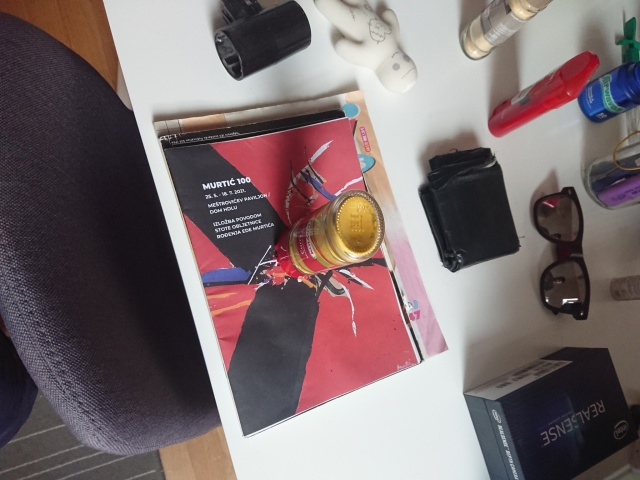Kotanyi Curry Spices Mix 70g: (271, 187, 388, 281)
